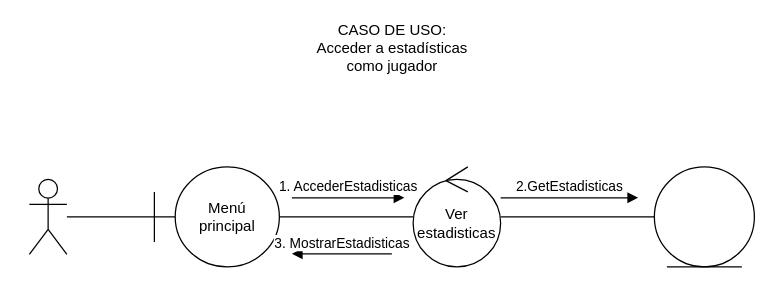
Image size: 776x303. Some labels were removed from this diagram. Here are the shapes that lost their labels. From the top down, the centre of each, then its label:
At point 47,216: "Jugador".
At point 703,216: "Estadisticas jugador".
